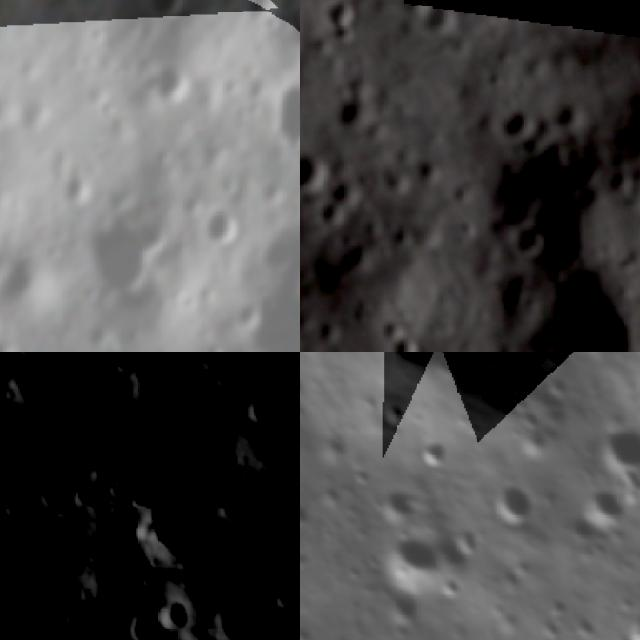crater: (497, 152, 608, 284), (525, 263, 640, 352), (80, 210, 171, 314), (142, 468, 225, 568), (374, 521, 445, 605), (78, 532, 149, 608), (563, 483, 631, 544), (0, 248, 50, 323), (243, 291, 300, 352), (589, 420, 640, 486), (10, 356, 68, 410), (488, 473, 540, 528), (123, 352, 186, 397), (0, 542, 29, 635), (258, 223, 300, 286), (370, 313, 437, 352), (209, 592, 263, 640), (269, 75, 300, 158), (320, 0, 369, 46), (300, 139, 337, 199), (146, 63, 194, 109), (234, 384, 286, 424), (34, 475, 79, 519), (121, 598, 167, 640), (205, 202, 245, 245), (157, 589, 193, 634), (415, 0, 458, 37), (56, 165, 90, 209), (416, 441, 454, 480), (376, 396, 412, 434), (142, 0, 191, 24), (274, 574, 300, 613), (277, 11, 300, 54), (347, 464, 374, 491), (96, 96, 122, 124), (516, 409, 542, 434), (300, 369, 312, 406), (627, 606, 640, 640)
